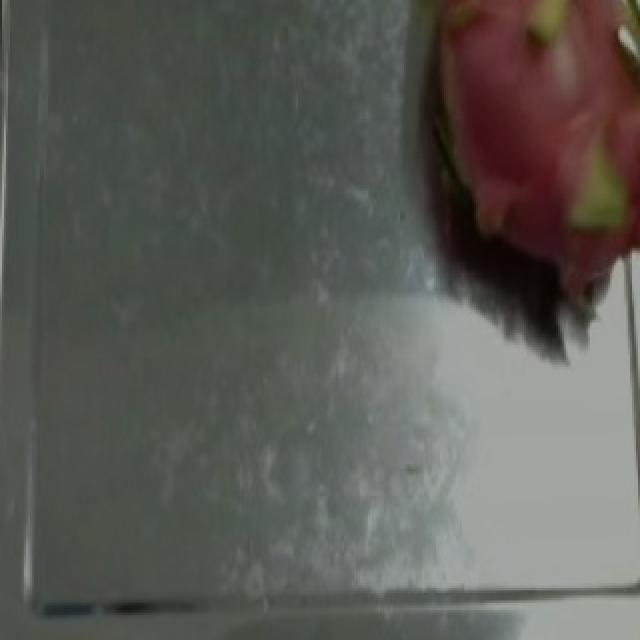fruit: (338, 0, 640, 355)
